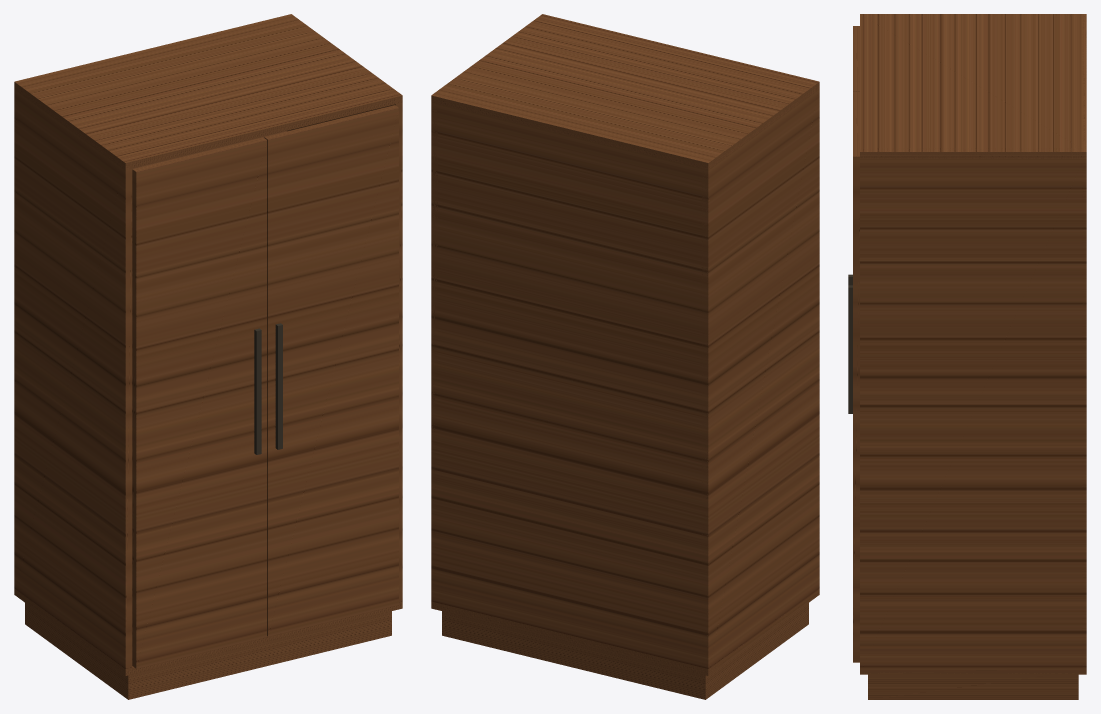
3 views of the same model, side by side, from view 1: azimuth 30°, elevation 25°; view 2: azimuth 150°, elevation 25°; view 3: azimuth 270°, elevation 25° (orthographic).
Visible parts, largest first — view 1: CabinetRoot; view 2: CabinetRoot; view 3: CabinetRoot.
Part boxes in pixels (bbox=[...]): CabinetRoot: bbox=[14, 14, 402, 699]; CabinetRoot: bbox=[431, 14, 819, 699]; CabinetRoot: bbox=[848, 14, 1086, 699].
Bounding box in the file's own units: 0.82 × 1.53 × 0.5995.
2 materials, 2 textured.
